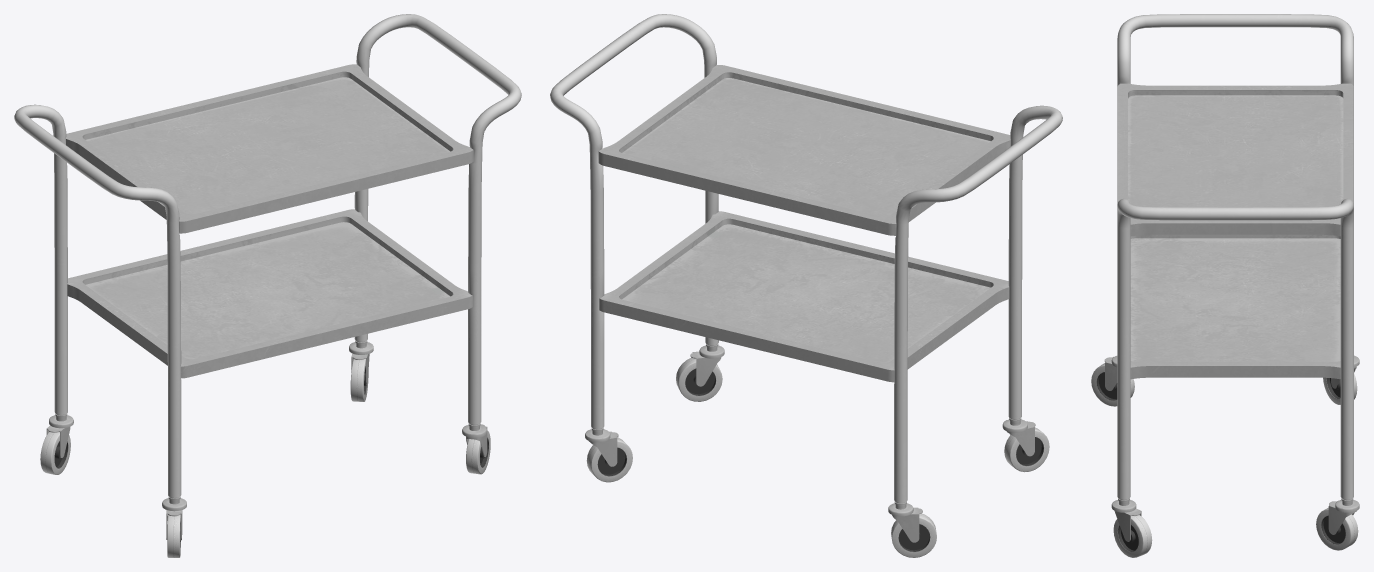
Rendered from hospital_trolley.glb.
3 views of the same model, side by side, from view 1: azimuth 30°, elevation 25°; view 2: azimuth 150°, elevation 25°; view 3: azimuth 270°, elevation 25° (orthographic). The views are drawn at different scales.
Visible parts, largest first — view 1: Trolley; view 2: Trolley; view 3: Trolley.
Boxes of the visible parts, x1,y1,x2,y2 form: Trolley: (14,14,521,557); Trolley: (550,14,1062,557); Trolley: (1091,14,1359,557).
Bounding box in the file's own units: 1.06 × 0.9138 × 0.6045.
Materials: 1 (1 with a texture image).
